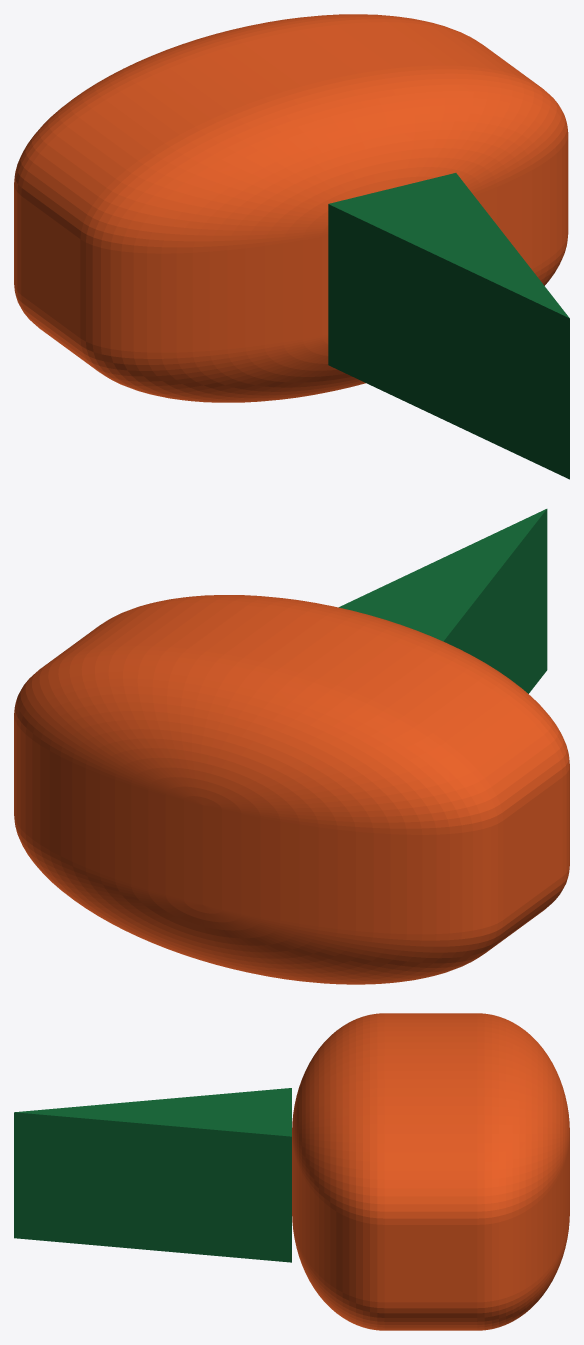
Rendered from tinker.obj.
3 views of the same model, one above another, from view 1: azimuth 30°, elevation 25°; view 2: azimuth 150°, elevation 25°; view 3: azimuth 270°, elevation 25° (orthographic). The views are drawn at different scales.
Visible parts, largest first — view 1: group_0_14900002, group_0_1206582; view 2: group_0_14900002, group_0_1206582; view 3: group_0_14900002, group_0_1206582.
Part boxes in pixels (<box>): group_0_14900002: <box>14,14,568,402</box>; group_0_1206582: <box>328,173,569,479</box>; group_0_14900002: <box>14,595,569,984</box>; group_0_1206582: <box>338,509,547,693</box>; group_0_14900002: <box>292,1013,569,1330</box>; group_0_1206582: <box>14,1088,291,1262</box>.
Bounding box in the file's own units: 93.62 × 55.36 × 120.
